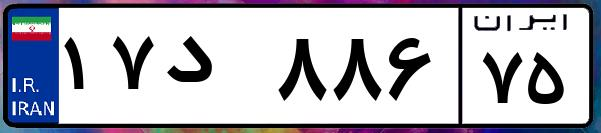1: (57, 26, 110, 100)
5: (525, 38, 570, 115)
6: (385, 28, 445, 110)
7: (475, 38, 525, 113), (110, 28, 158, 98)
8: (270, 28, 330, 110), (330, 28, 385, 110)
د: (158, 20, 270, 120)
